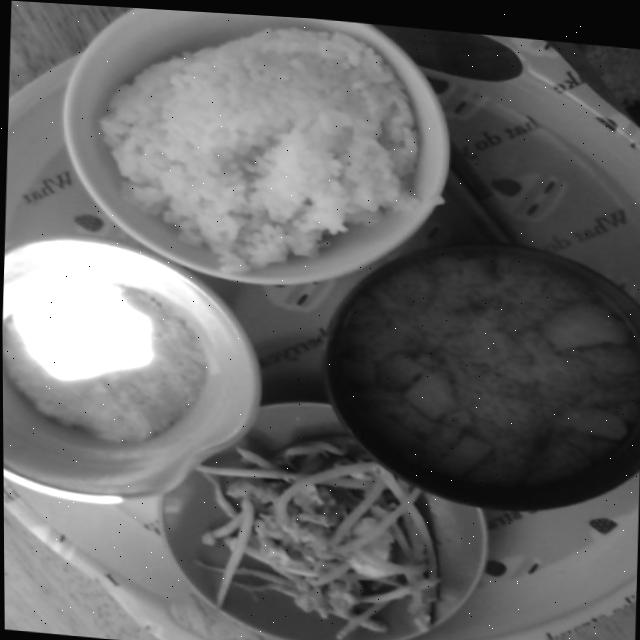米饭主食: (38, 2, 458, 310)
